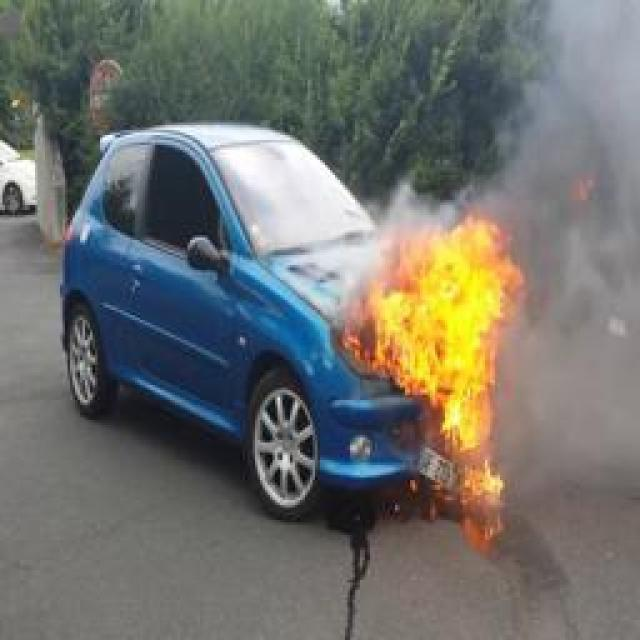Fire: (344, 212, 528, 552)
